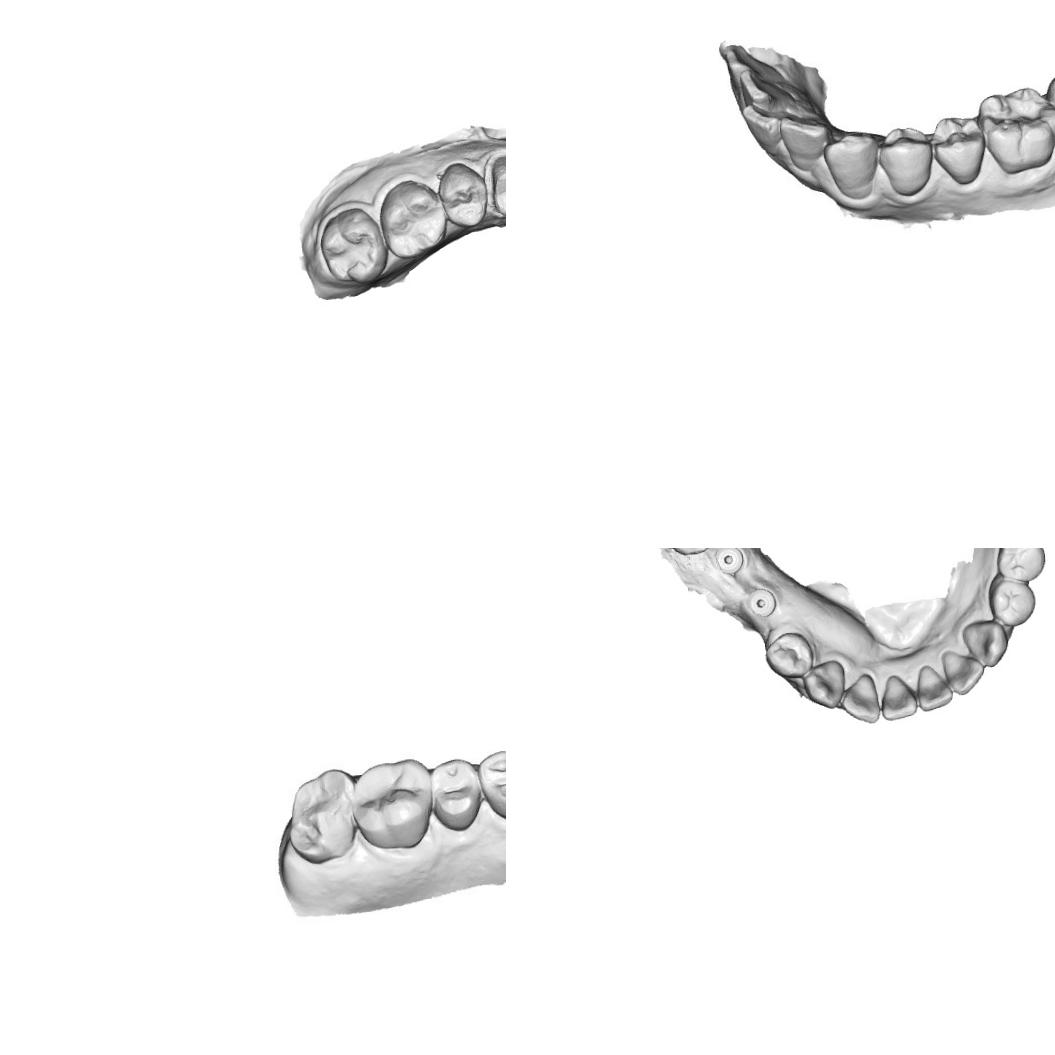canine: (825, 128, 880, 202), (960, 618, 1009, 670), (802, 660, 847, 710)
crown: (482, 150, 506, 221)
implant: (744, 586, 777, 618), (712, 548, 746, 576)
incisor: (782, 113, 825, 168), (838, 672, 882, 725), (940, 649, 986, 696), (878, 674, 920, 722), (742, 100, 782, 147), (916, 663, 955, 711), (740, 67, 776, 106)
molar: (285, 766, 356, 866), (354, 759, 430, 850), (978, 87, 1055, 174), (317, 205, 390, 287), (377, 177, 448, 260)
premolar: (429, 756, 484, 834), (932, 115, 988, 188), (876, 124, 932, 196), (436, 160, 490, 229), (987, 570, 1037, 628), (764, 630, 814, 679), (475, 747, 506, 820), (994, 548, 1046, 582)
